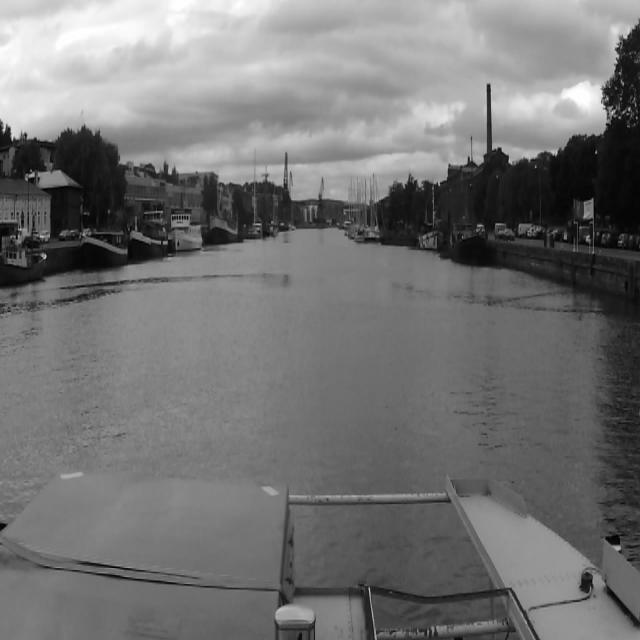ship: (450, 135, 486, 266), (0, 245, 47, 289), (80, 227, 128, 270), (131, 209, 169, 260), (418, 178, 442, 252), (210, 182, 238, 245), (169, 206, 203, 254), (248, 148, 260, 240), (379, 220, 419, 246)
